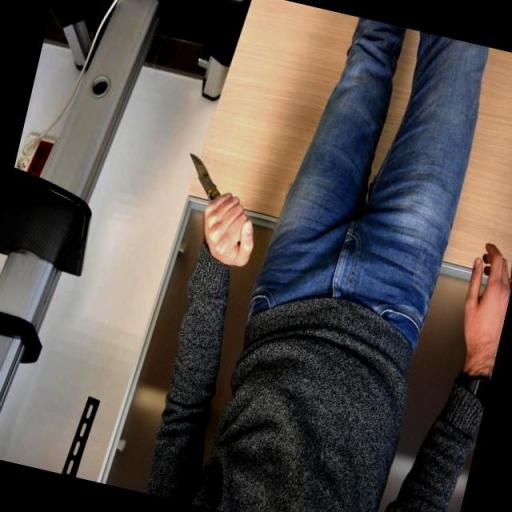knife: (174, 149, 236, 218)
